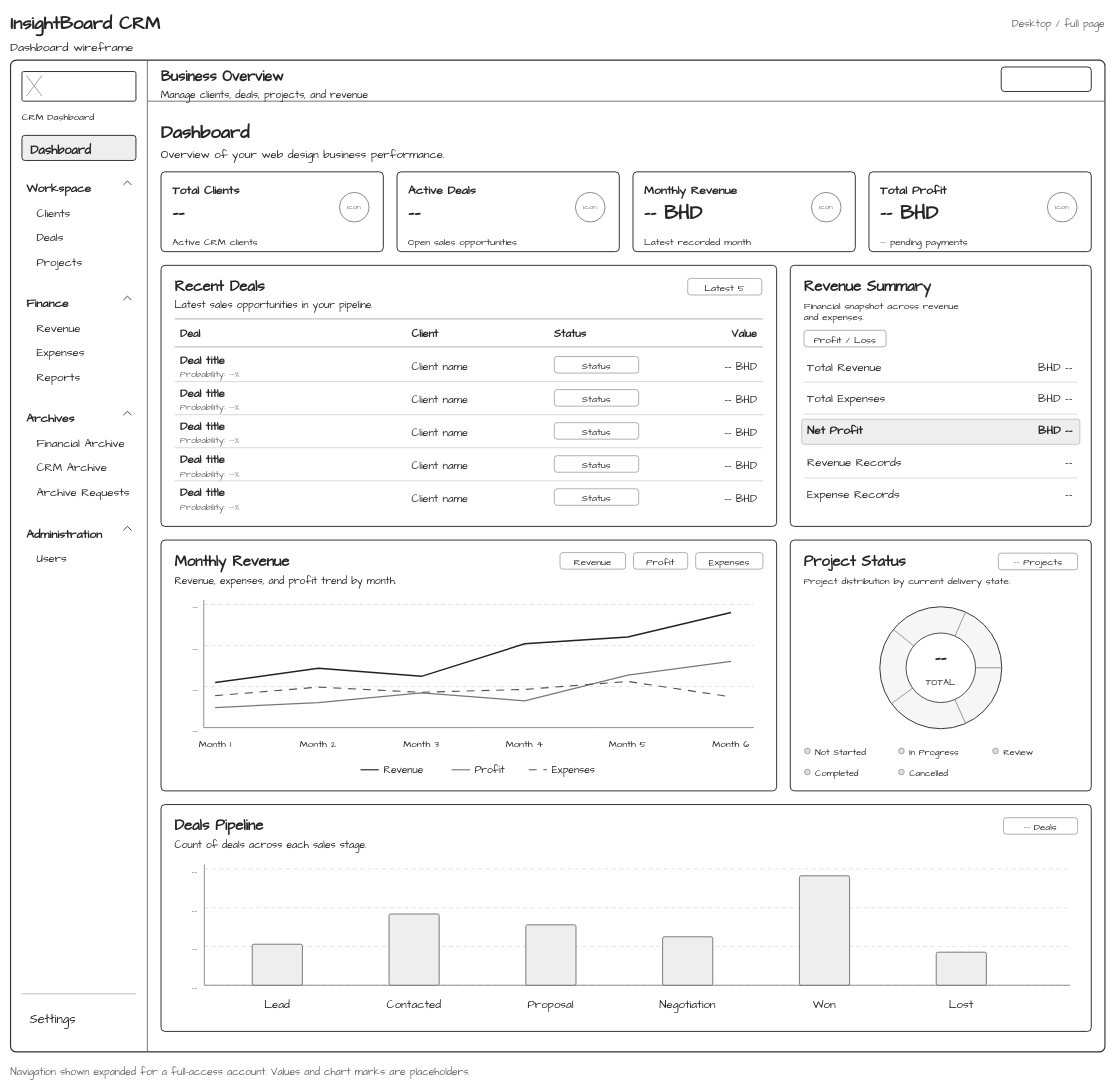
Image size: 1115x1091. Some labels were removed from this diagram. The box of each missing label's shape, as (x1, y1, x2, y2) in pixels:
InsightBoard: (21, 71, 136, 101)
Sign out: (1000, 66, 1091, 92)
